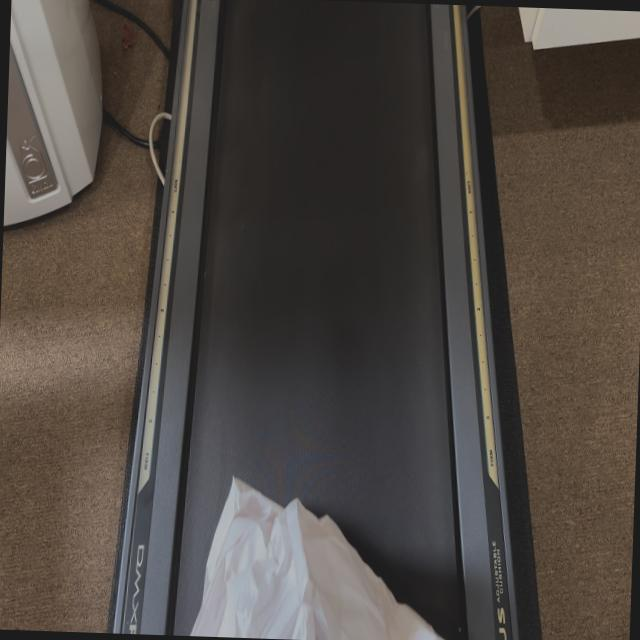Recycle: (187, 473, 455, 640)
